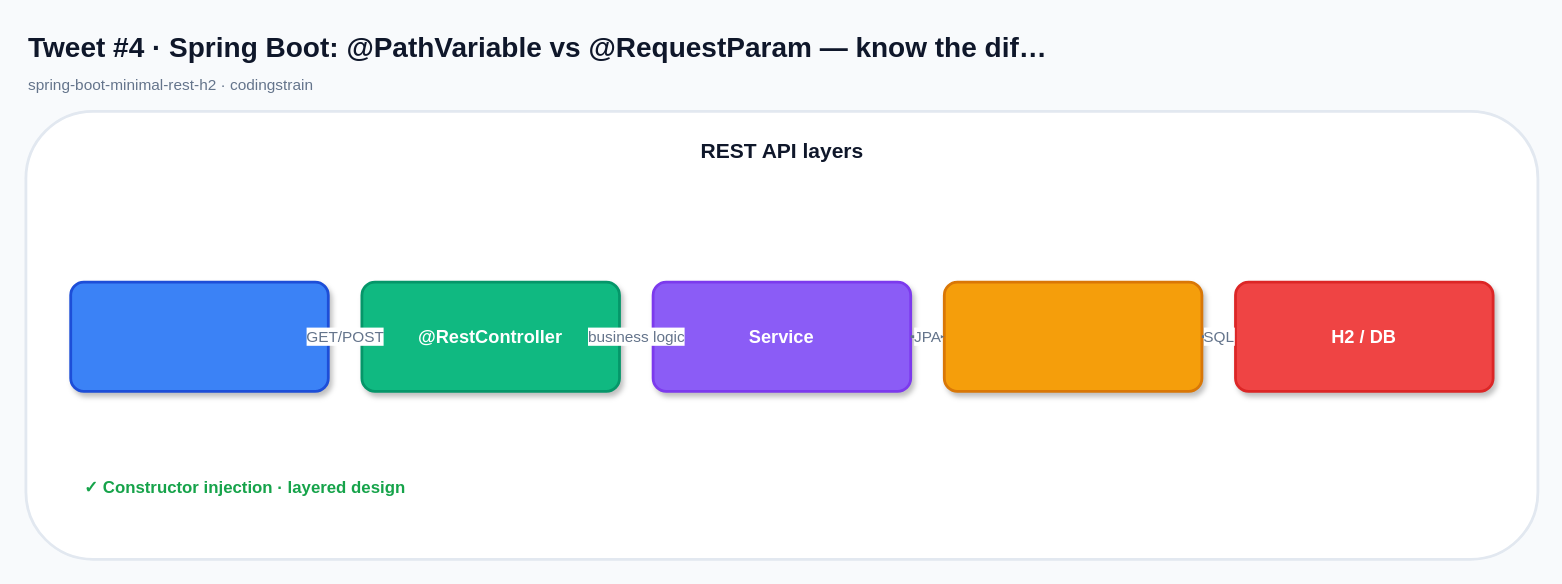
Some shapes in this 1562 by 584 pixel diagram are drawn without their labels. The shapes that lost their labels are listed below. From the top down, each one's centre as x and y in pixels, then its label:
the point at 200,338: HTTP Client
the point at 1074,338: Repository
